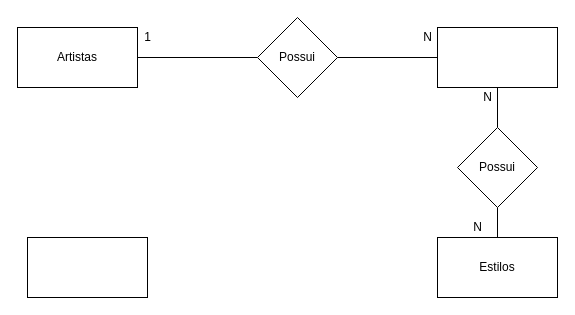
Image size: 575x315. Some labels were removed from this diagram. Here are the shapes that lost their labels. From the top down, the centre of each, then its label:
At (497,57): "Albuns".
At (87,267): "Usuarios".
